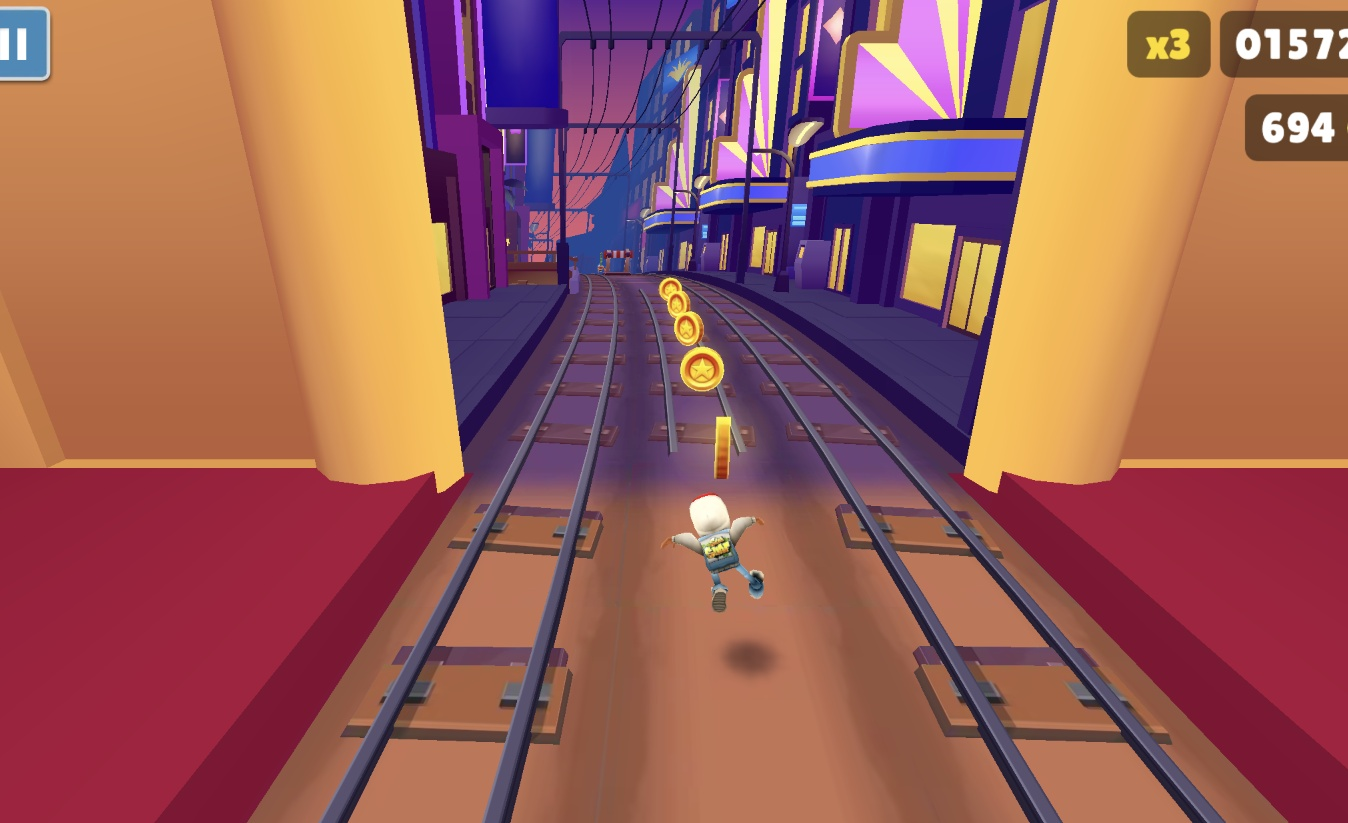ground_barrier: (603, 250, 634, 277)
